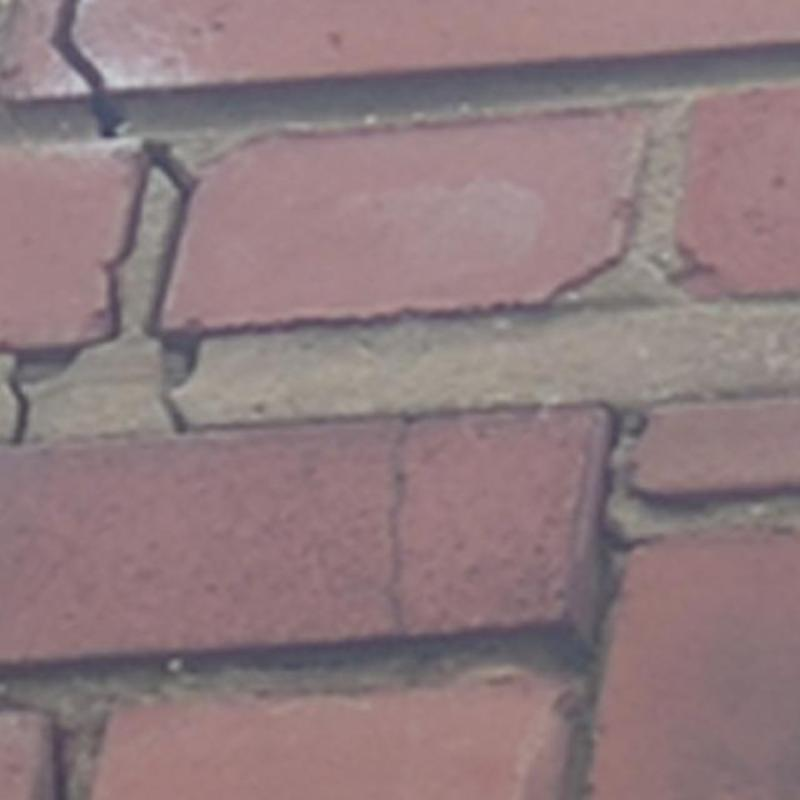pothole: (11, 139, 202, 443), (589, 406, 665, 648), (52, 0, 122, 137), (380, 420, 417, 635), (49, 714, 68, 799)
